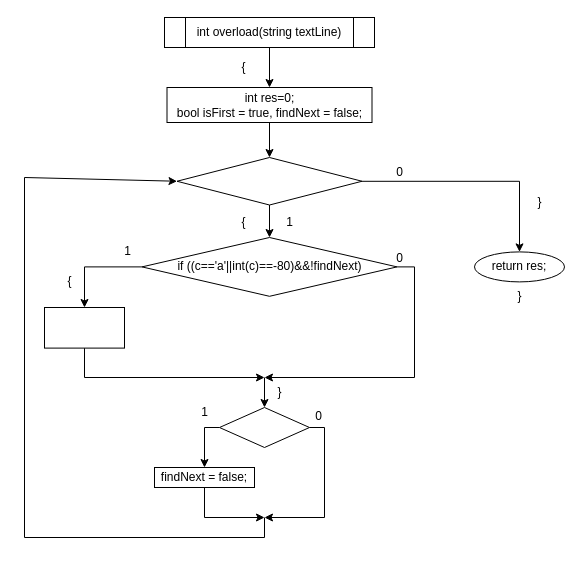
The diagram is 582 pixels wide and 563 high, and some of its shapes have lost their labels. Each missing label, with the centre of its shape:
for (char c: textLine): (269,180)
if (c==' '): (264,427)
res++; findNext=true;: (84,327)
